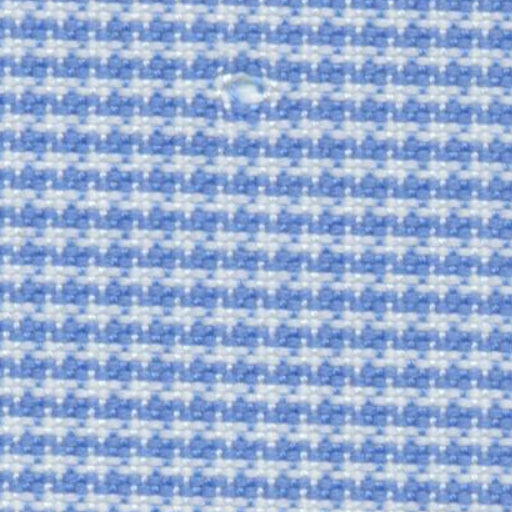PoDong: (198, 58, 288, 123)
